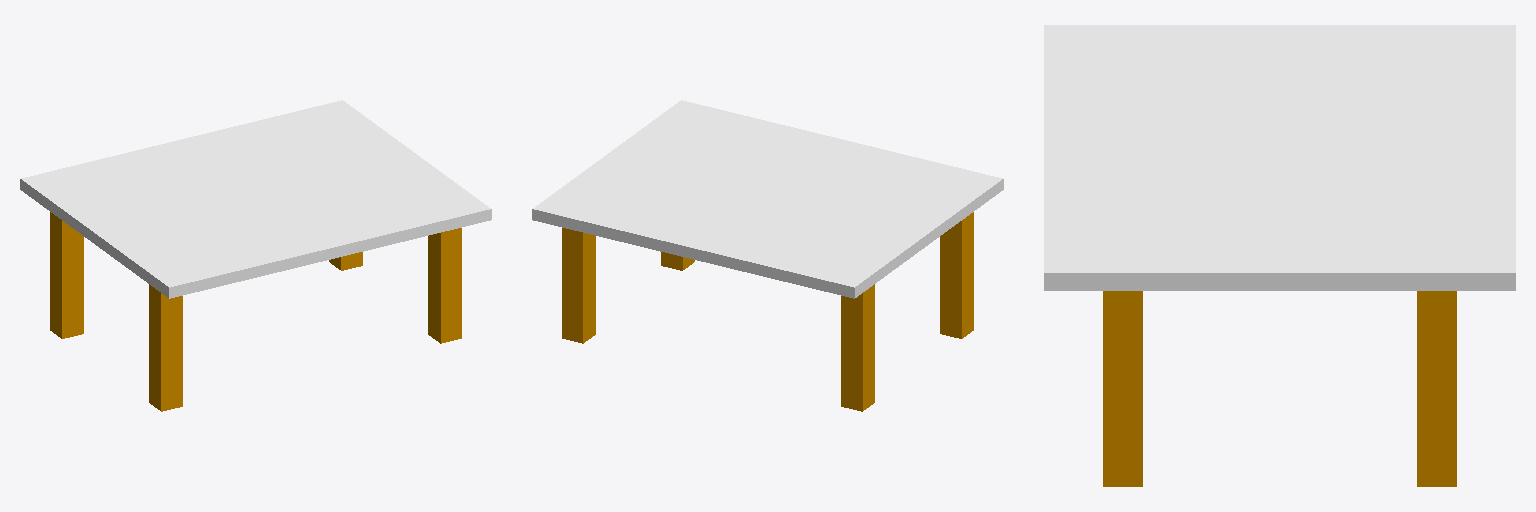
robot.urdf — table.urdf:
<?xml version="0.0" ?>
<robot name="table.urdf">
  <link name="baseLink">
    <contact>
      <lateral_friction value="1"/>

    </contact>
    <inertial>
      <origin rpy="0 0 0" xyz="0 0 0"/>
       <mass value="1"/>

       <inertia ixx="1" ixy="0" ixz="0" iyy="1" iyz="0" izz="1"/>
    </inertial>

    <visual>
      <origin rpy="0 0 0" xyz="0 0 0.6"/>
      <geometry>
				<mesh filename="table2.obj" scale="1.5 1.2 0.05"/>
      </geometry>
       <material name="white">
        <color rgba="1 1 1 1"/>
      </material>
    </visual>
    <collision>
    <origin rpy="0 0 0" xyz="0 0 0.6"/>
      <geometry>
            <box size="1.5 1.2 0.05"/>
      </geometry>
    </collision>
	<visual>
      <origin rpy="0 0 0" xyz="-0.65 -0.4 0.29"/>
      <geometry>
	    <mesh filename="table2.obj" scale="0.1 0.1 0.58"/>
      </geometry>
	  <material name="framemat0"/>
    </visual>
    <visual>
      <origin rpy="0 0 0" xyz="-0.65 0.4 0.29"/>
      <geometry>
        <mesh filename="table2.obj" scale="0.1 0.1 0.58"/>
      </geometry>
	  <material name="framemat0"/>
	  </visual>
    <visual>
      <origin rpy="0 0 0" xyz="0.65 -0.4 0.29"/>
      <geometry>
        <mesh filename="table2.obj" scale="0.1 0.1 0.58"/>
      </geometry>
	  <material name="framemat0"/>
	  </visual>
    <visual>
      <origin rpy="0 0 0" xyz="0.65 0.4 0.29"/>
      <geometry>
        <mesh filename="table2.obj" scale="0.1 0.1 0.58"/>
      </geometry>
    </visual>
  </link>
</robot>

--- What the picture shows (computed from the rendered views, not written in the file) ---
Views: 3 orthographic renders of the robot side by side, from view 1: azimuth 30°, elevation 25°; view 2: azimuth 150°, elevation 25°; view 3: azimuth 270°, elevation 25°.
Robot: table.urdf — 1 links, 0 joints (none); root link baseLink; default pose: all joints at 0.
Links seen in each view (by area): view 1: baseLink; view 2: baseLink; view 3: baseLink.
Link boxes in pixels (x1,y1,x2,y2): baseLink: (20,100,491,411); baseLink: (532,100,1003,411); baseLink: (1044,25,1515,486).
Bounding box of the posed robot: 1.5 × 1.2 × 0.625 m (x, y, z).
Meshes: 1 distinct files referenced, 5 mesh visuals loaded (1 OBJ).